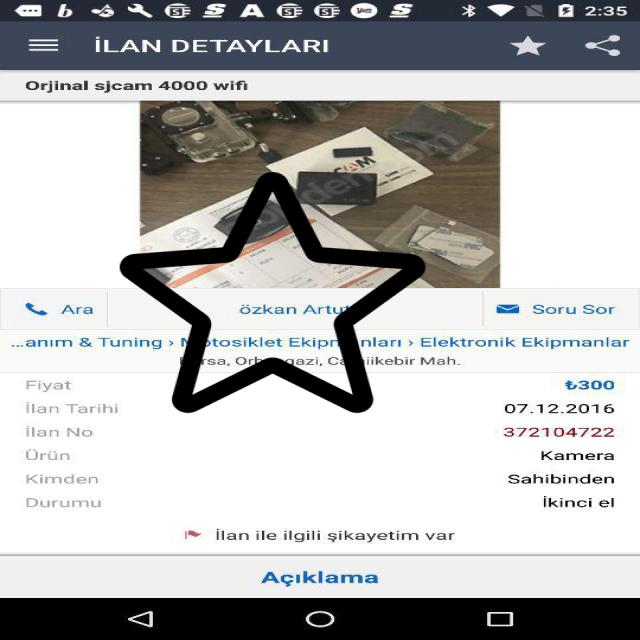forced continuity: (120, 167, 426, 418)
